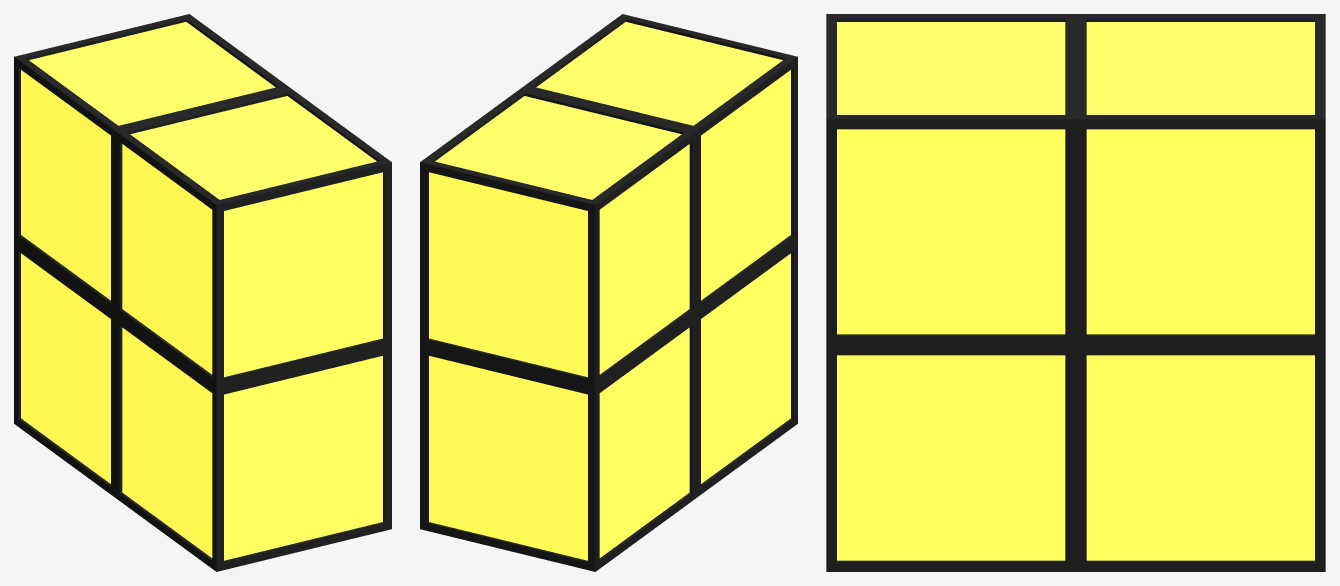
File: smashboy.fbx
3 renders of one model, left to right at view 1: azimuth 30°, elevation 25°; view 2: azimuth 150°, elevation 25°; view 3: azimuth 270°, elevation 25°, orthographic. The views are drawn at different scales.
Visible parts, largest first — view 1: Smashboy; view 2: Smashboy; view 3: Smashboy.
Part boxes in pixels (bbox=[...]): Smashboy: bbox=[14, 14, 391, 571]; Smashboy: bbox=[420, 14, 797, 571]; Smashboy: bbox=[826, 14, 1325, 571].
Size of the model in its own units: 39.44 by 78.89 by 78.88.
